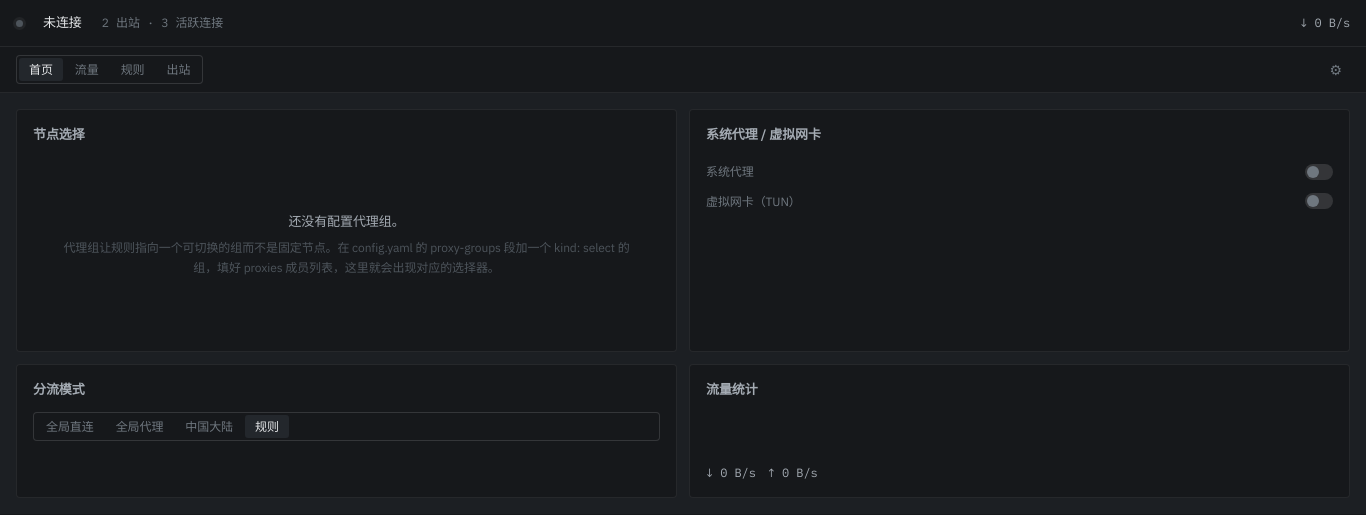
Test: 组装：默认视图与状态条 › 切到流量视图后不显示日志（§11.3）
Click the radio button labelled "流量" at x=87, y=70, box [65,58,109,81]
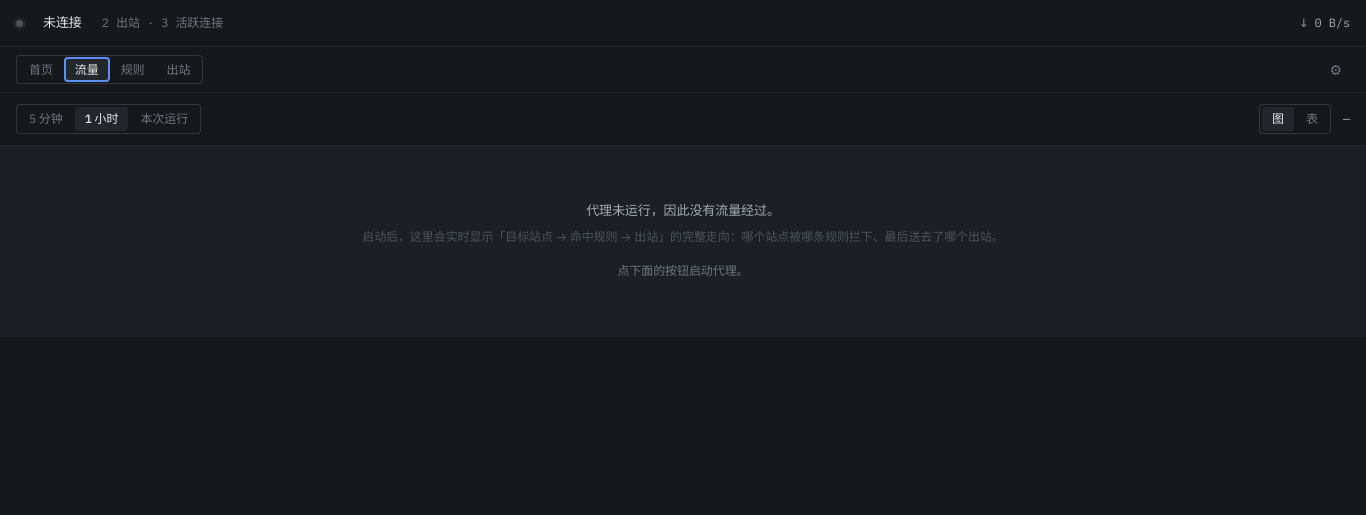
Check: the element named "流量走向" is shown, box [0,93,1365,337]
